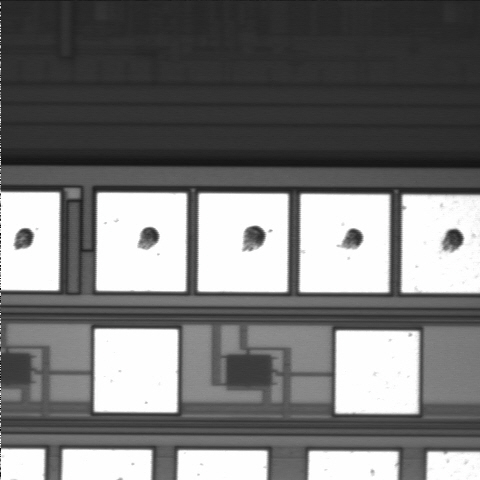pad: (96, 193, 187, 291), (198, 193, 288, 292), (300, 194, 389, 292), (94, 329, 178, 412), (336, 331, 419, 414)
